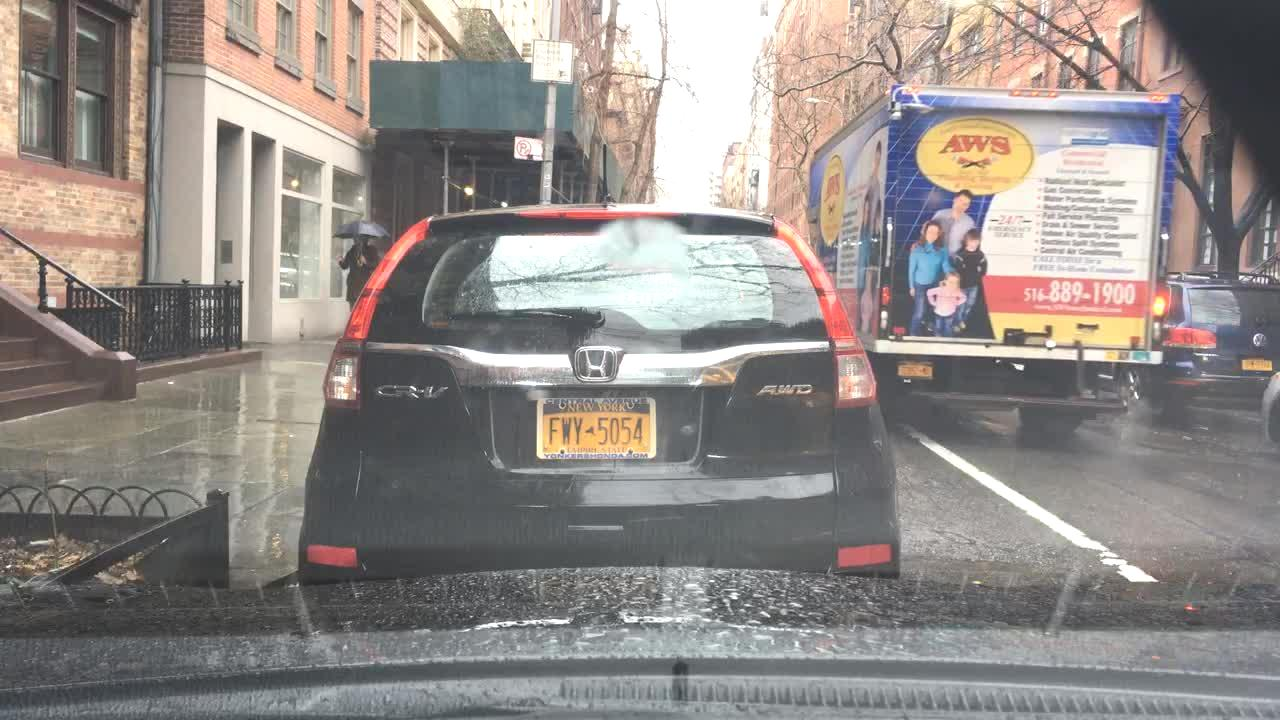Honda: (561, 341, 628, 389)
Volkswagen: (1244, 326, 1271, 356)
